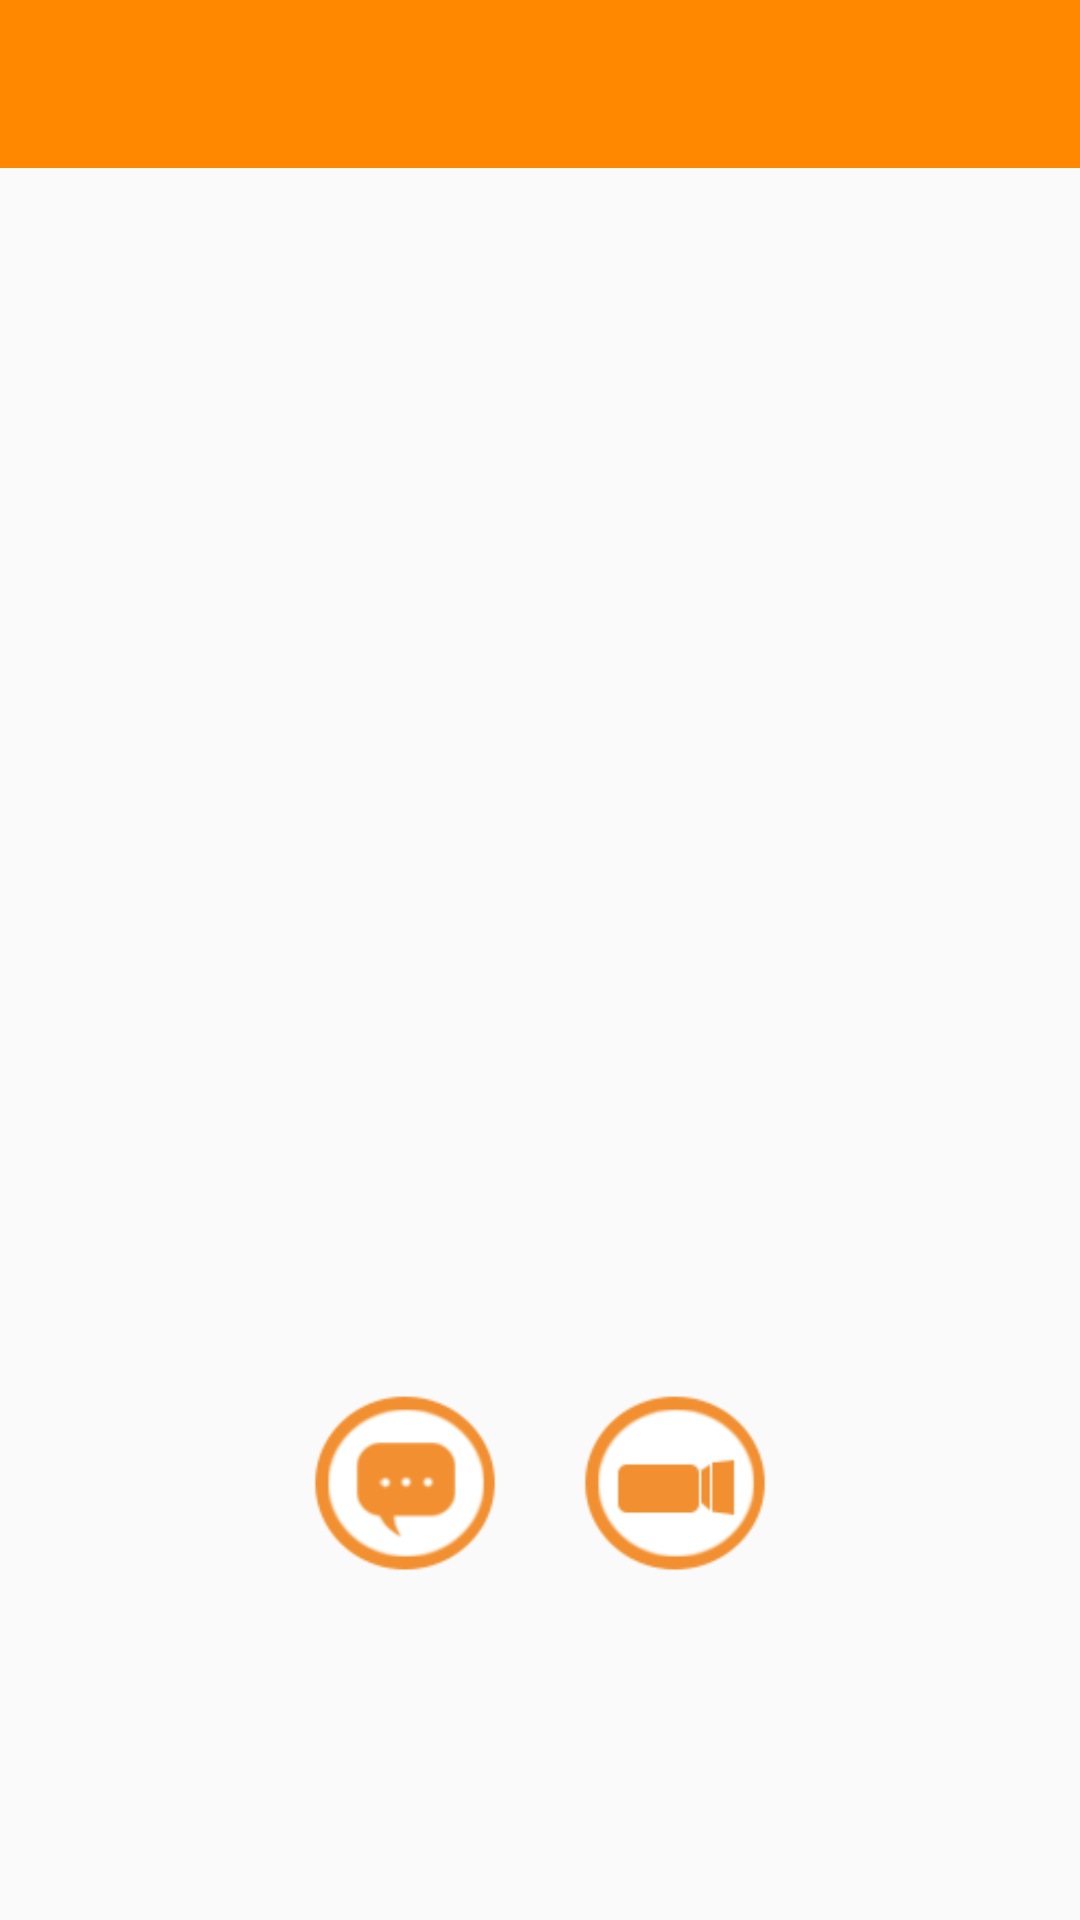

Named icons in this screenshot (1080×1920) and their bounding boxes, region(x1, y1, x2, y2):
prochat: region(314, 1396, 496, 1570)
provideo: region(584, 1396, 766, 1570)
